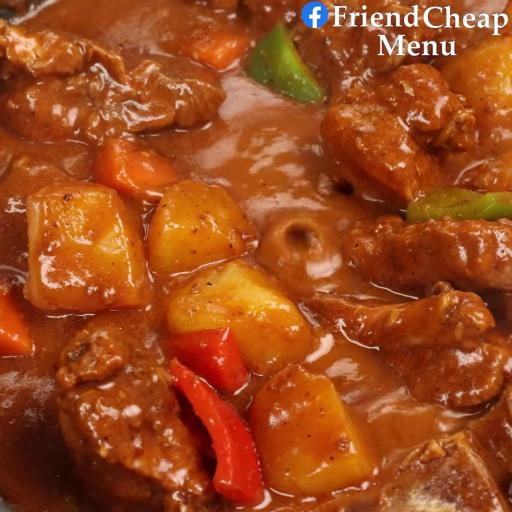pork caldereta: (0, 61, 512, 512)
